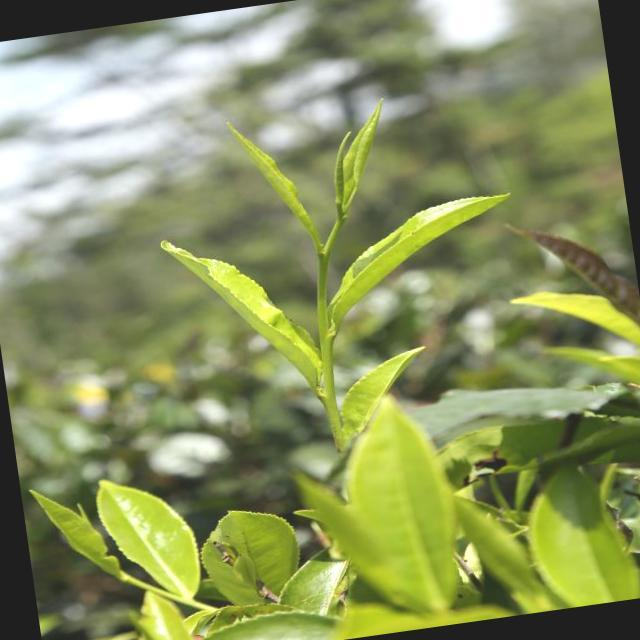Stem: (318, 253, 329, 269)
